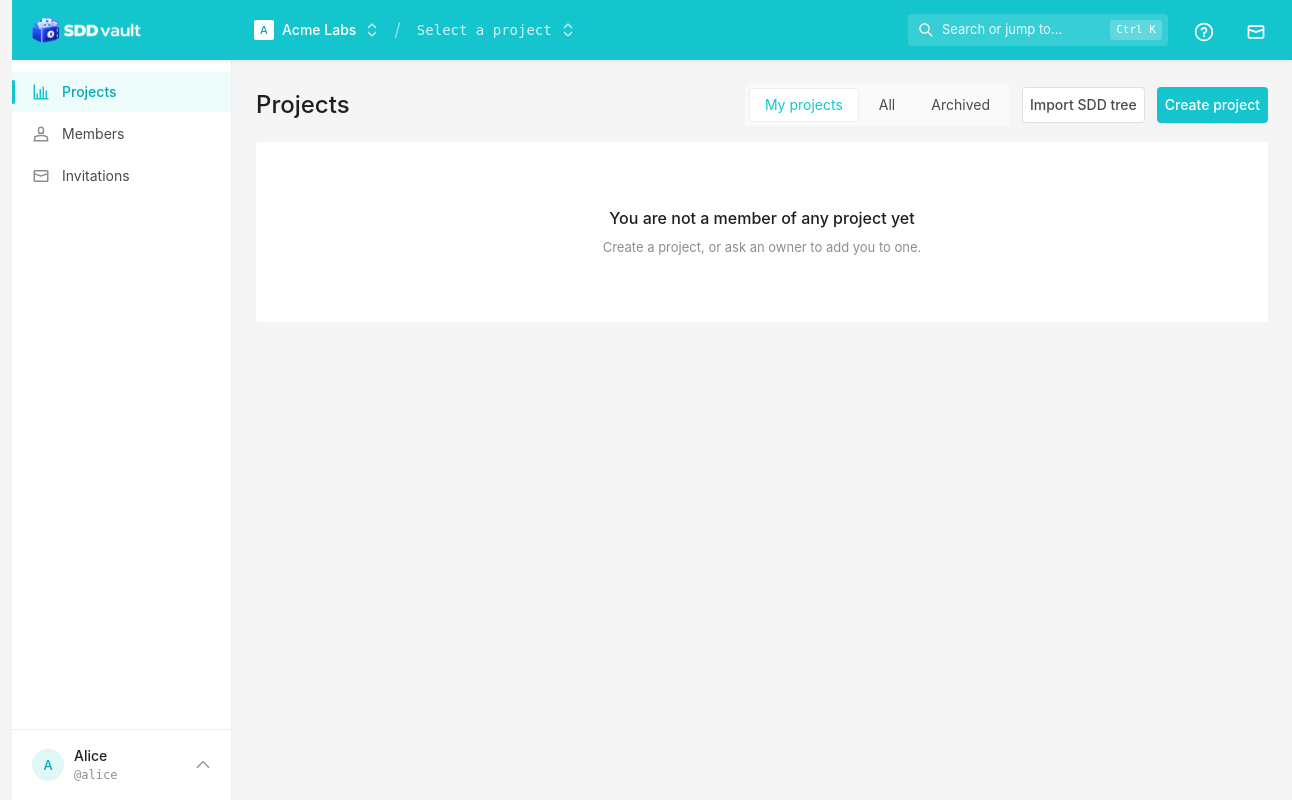
Test: each filter has its own empty state
Check: the text "You are not a member of any project yet" is shown, box [609,206,915,230]
Click the tab "Archived".
click(961, 104)  # box [931,96,990,113]
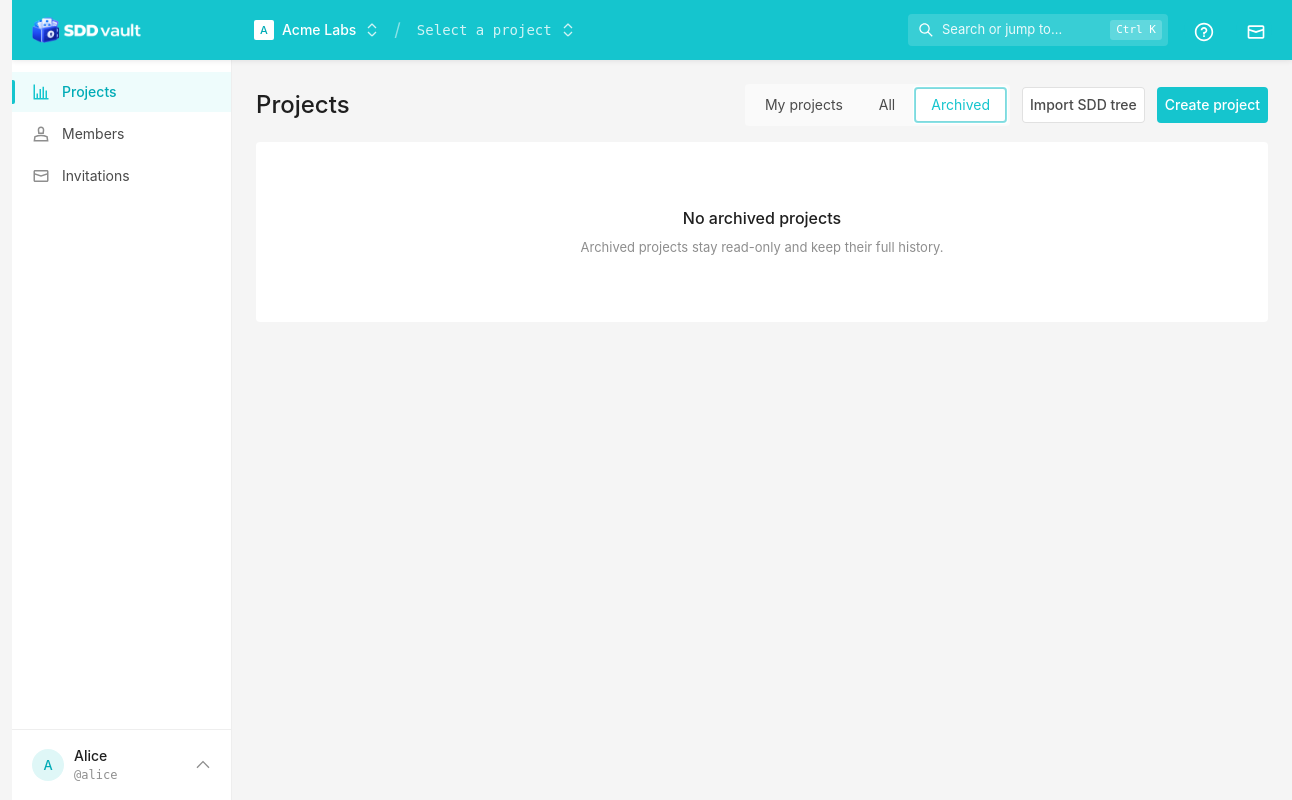
Check: the text "No archived projects" is shown, box [683,206,841,230]
Check: the text "Archived projects stay read-only and keep their full history." is shown, box [580,238,944,258]
